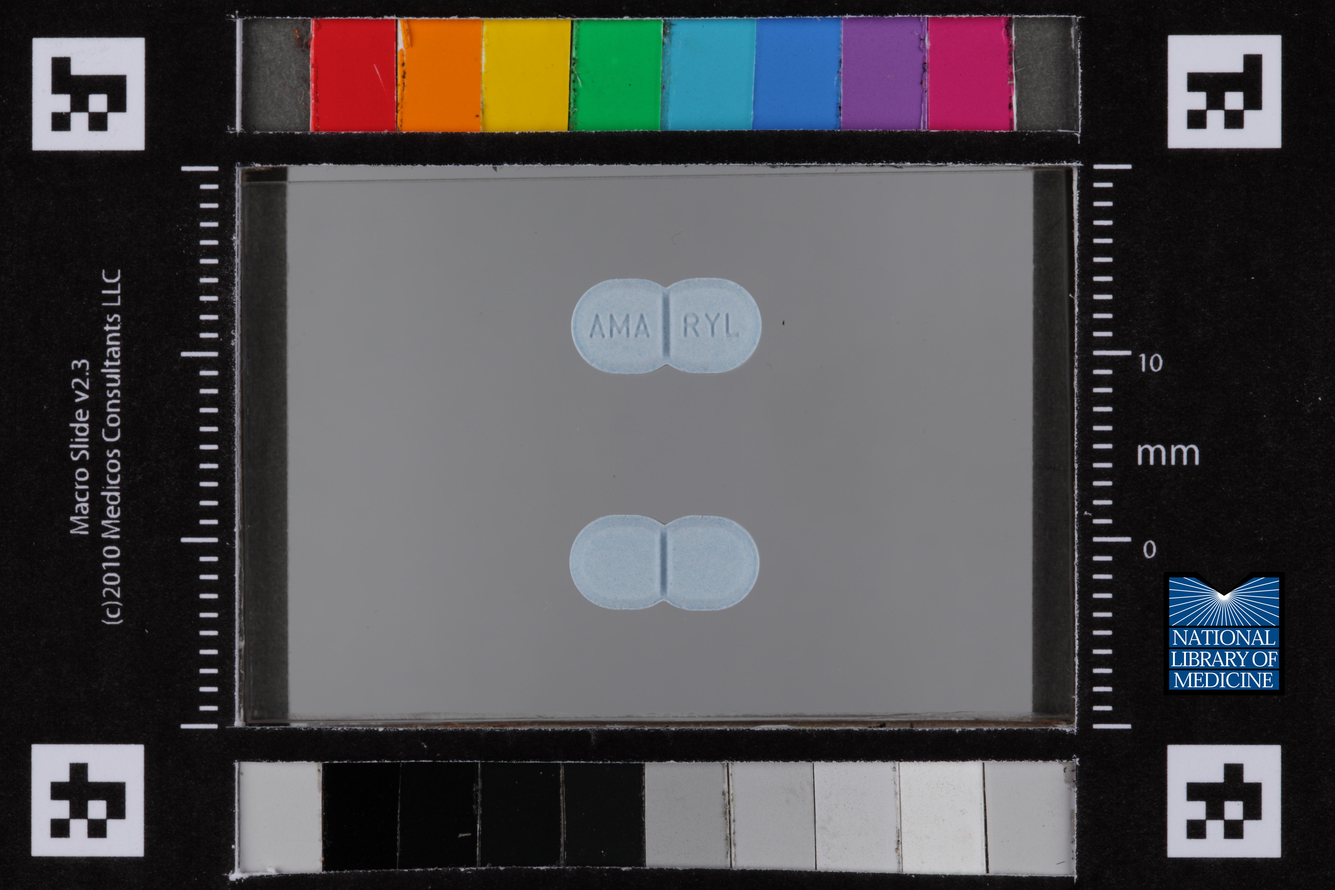Pill: (554, 506, 772, 625), (561, 271, 769, 385)
